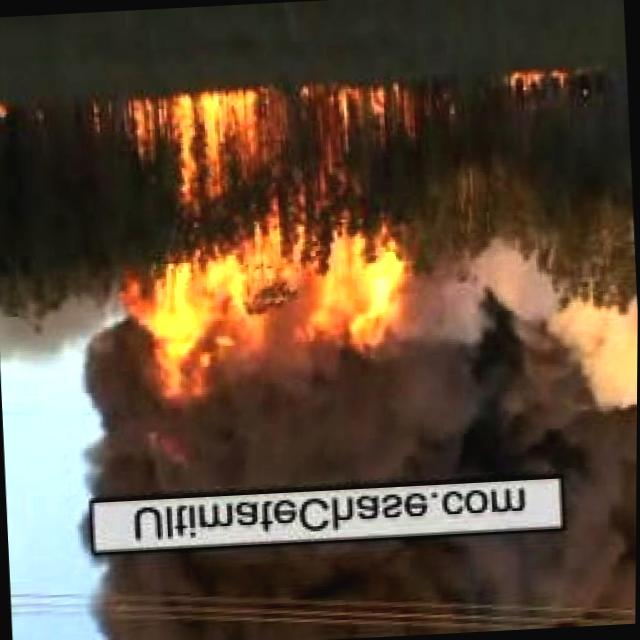helmet: (130, 78, 430, 404), (503, 66, 572, 95), (0, 103, 11, 123)
no_helmet: (0, 263, 638, 505), (96, 531, 637, 640)
